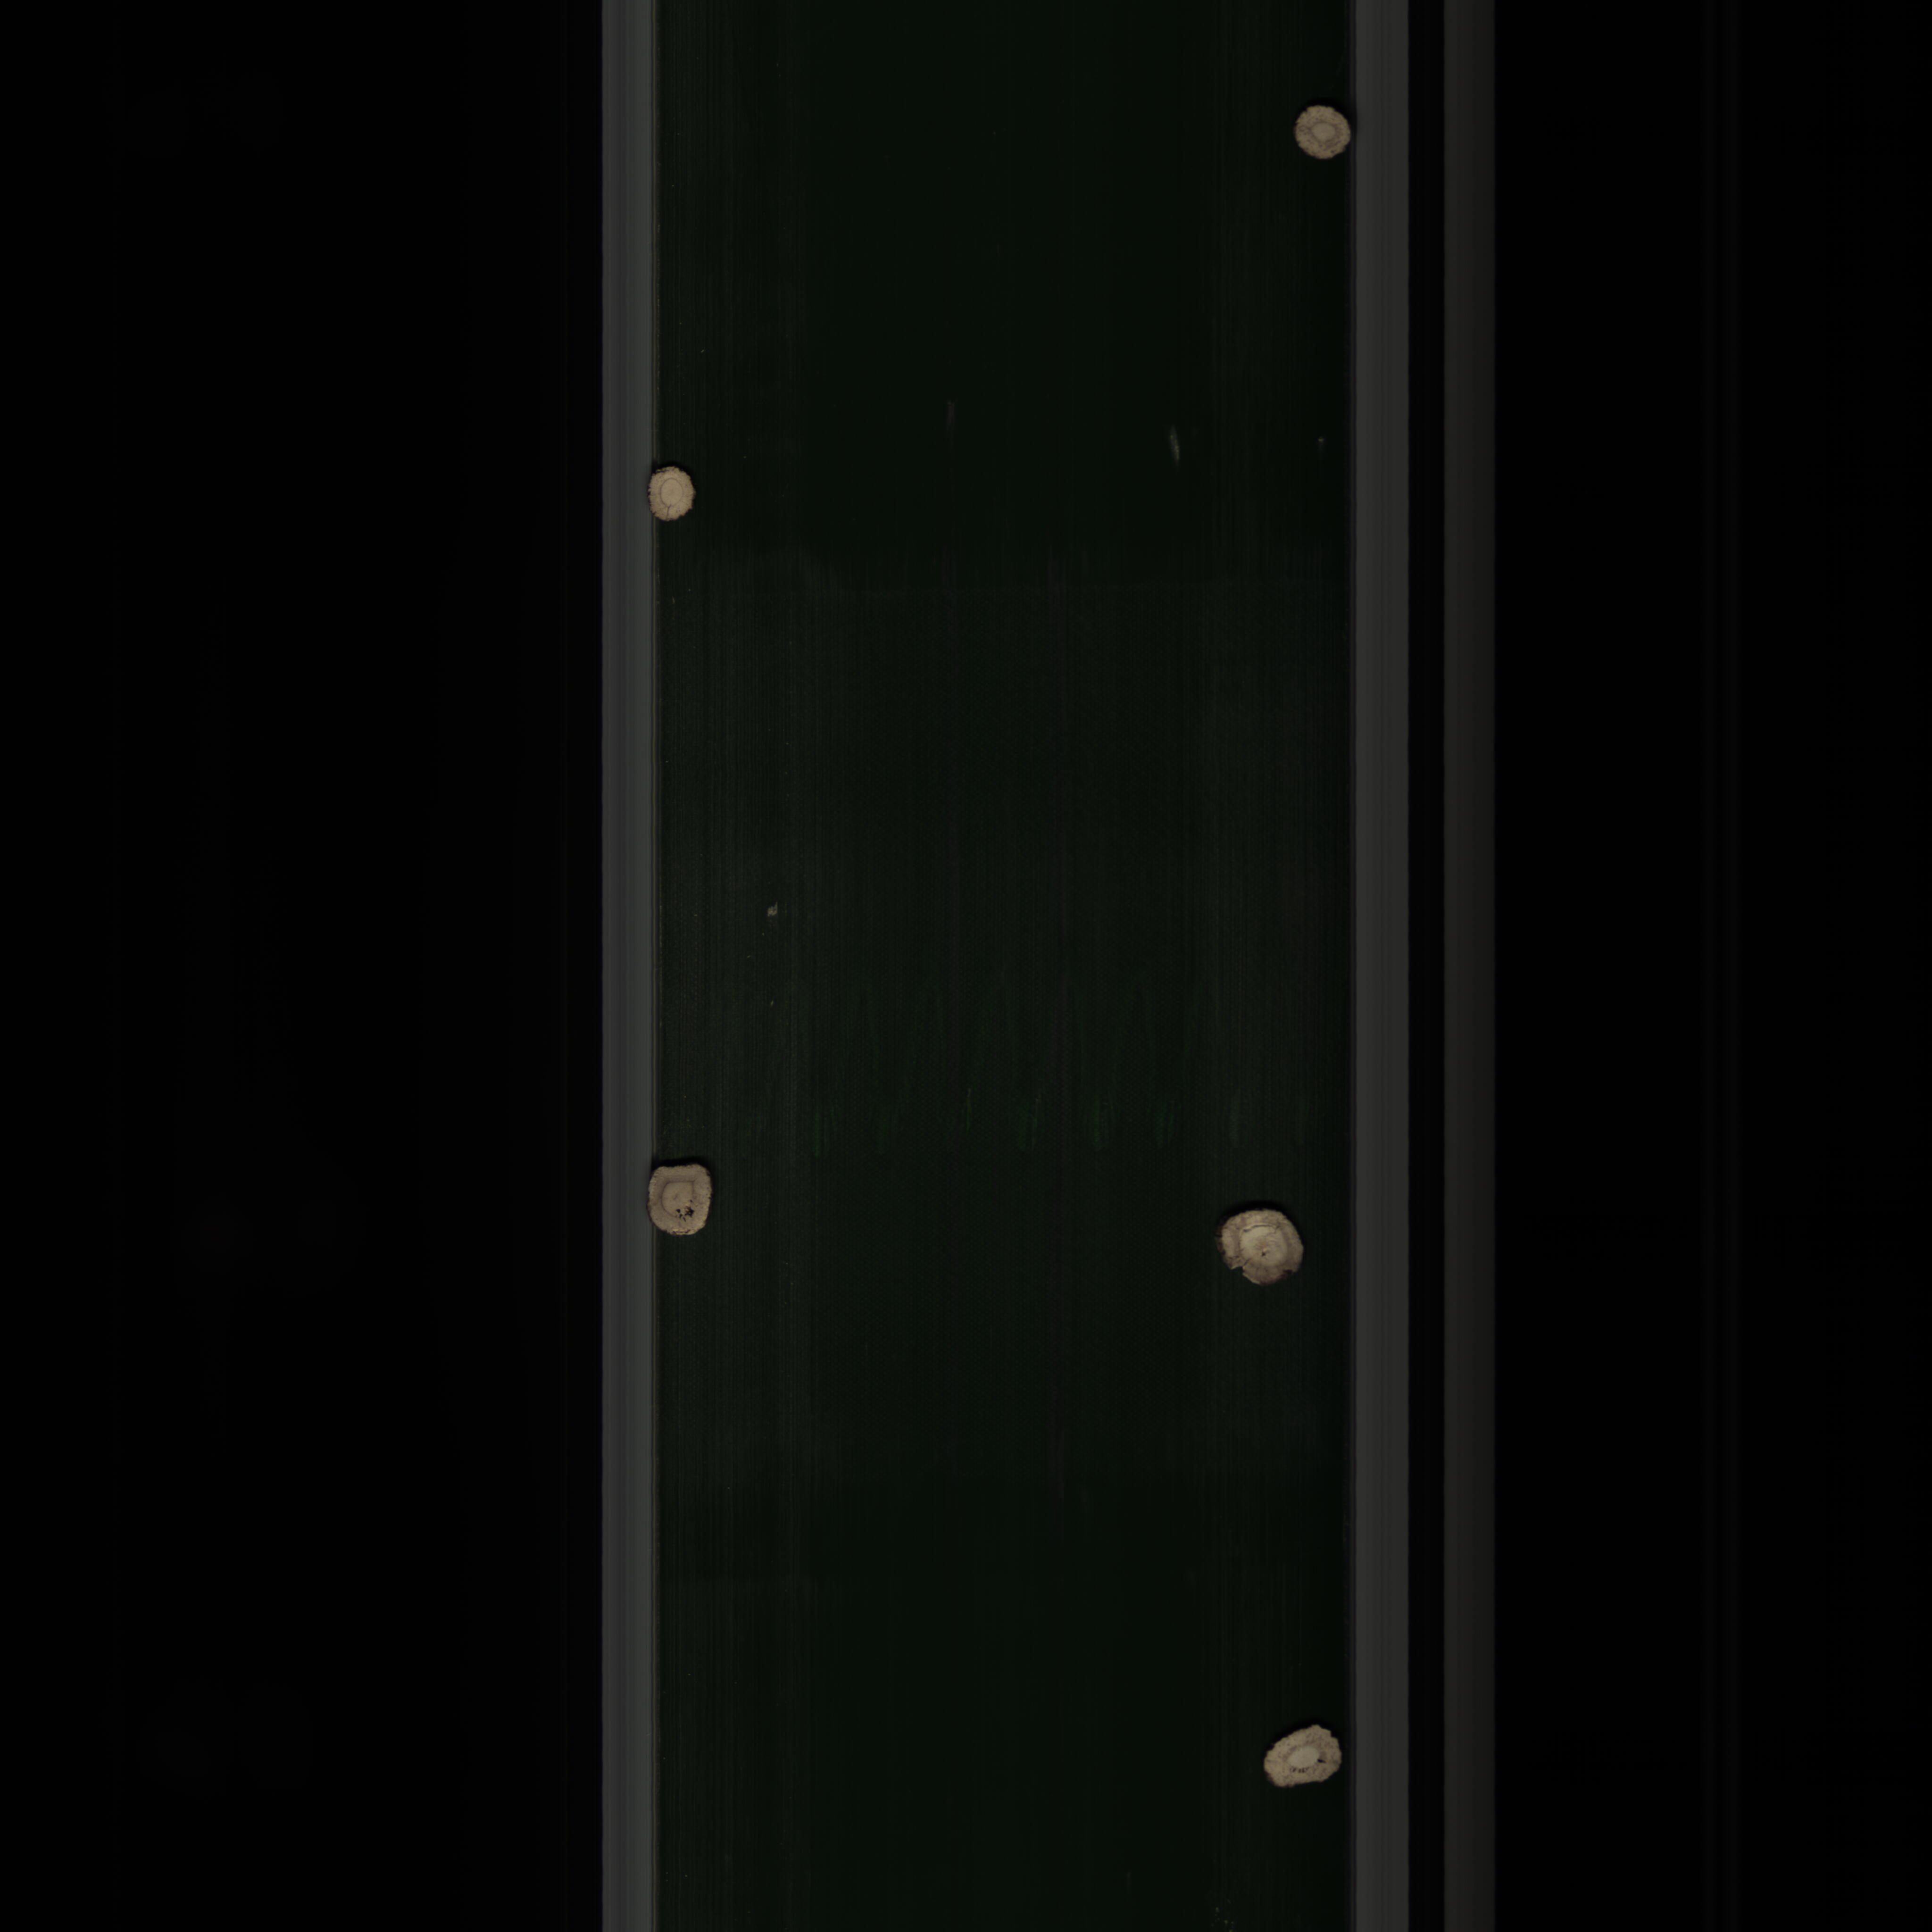hole: (1249, 1723, 1357, 1798), (633, 1155, 717, 1247)
moldy: (1203, 1205, 1320, 1297)
